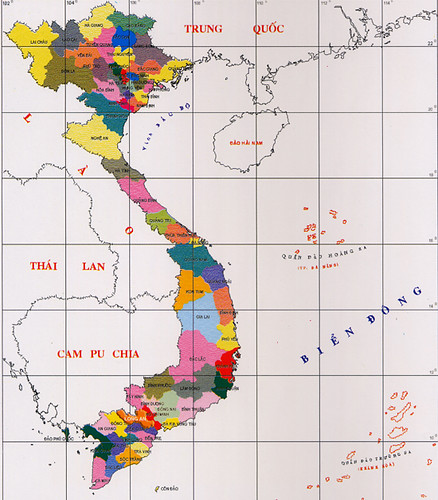Island: (290, 390, 438, 499), (283, 199, 375, 282)
